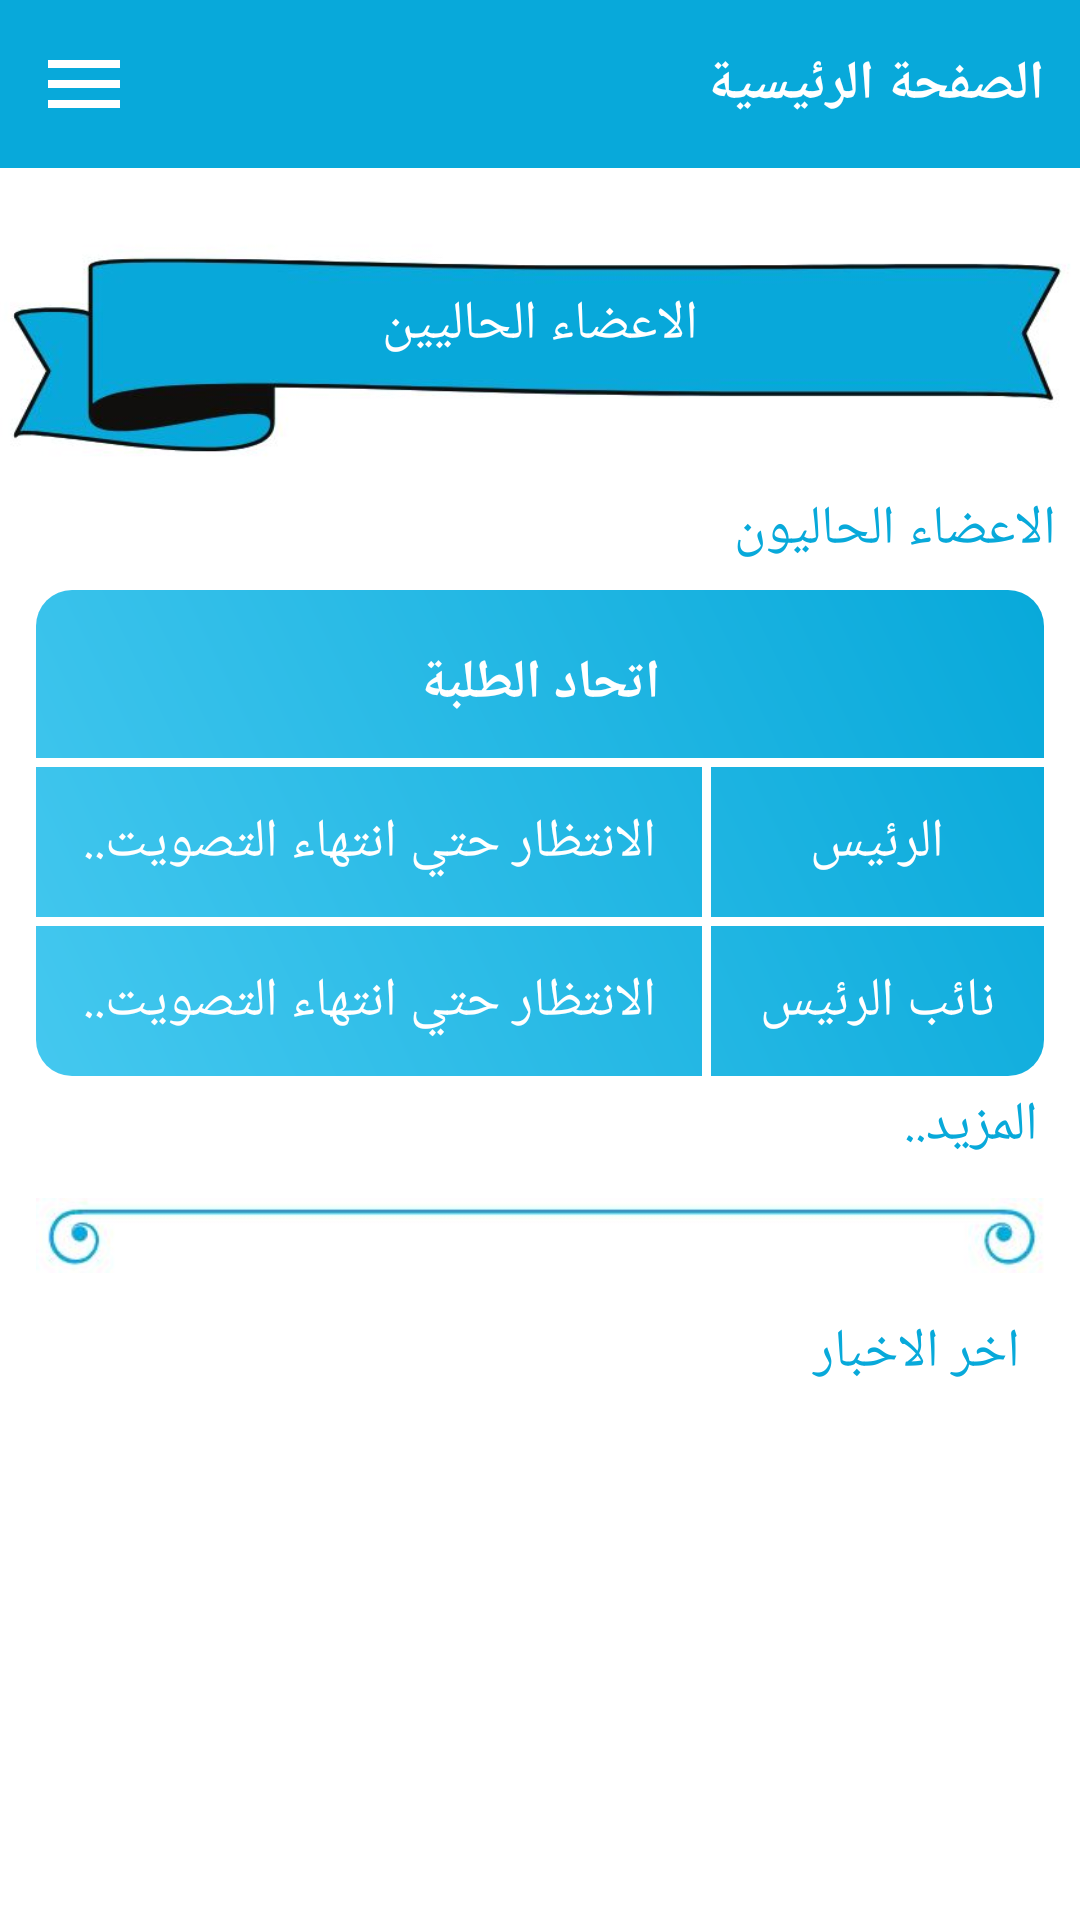

Where to tap for icons on this 1080w x 1920h app screen, as [x,y]:
menu: [84,84]
